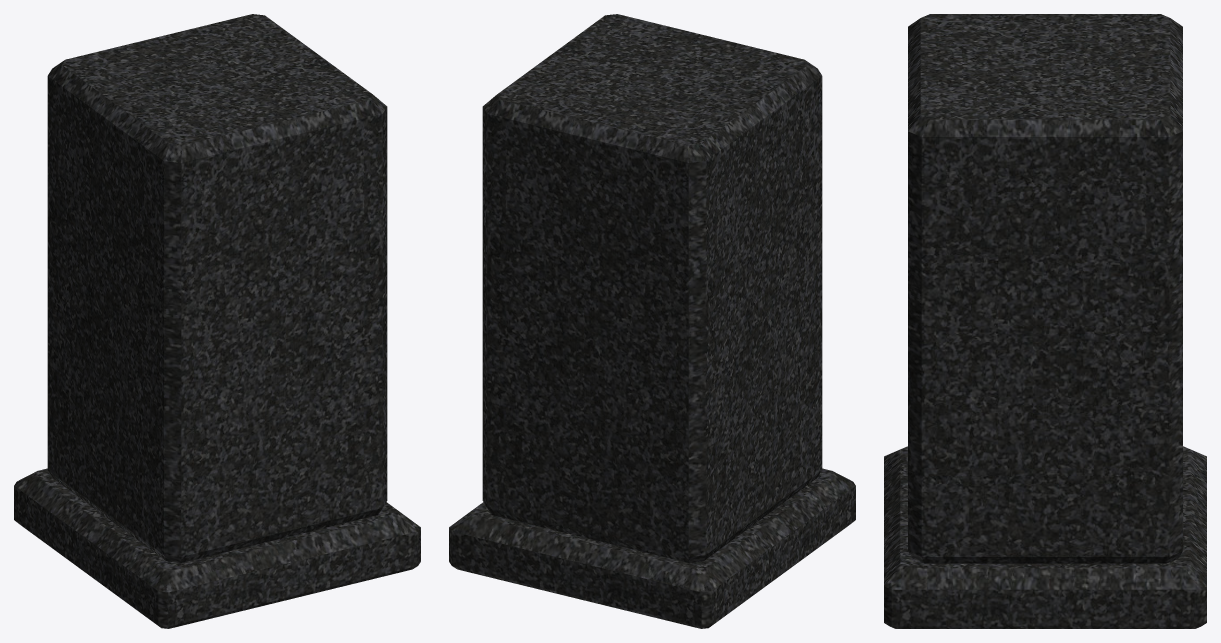
File: post-stone-plinth.glb
The picture shows the model from 3 angles, left to right: view 1: azimuth 30°, elevation 25°; view 2: azimuth 150°, elevation 25°; view 3: azimuth 270°, elevation 25°; orthographic projection. The views are drawn at different scales.
Visible parts, largest first — view 1: post-stone-plinth; view 2: post-stone-plinth; view 3: post-stone-plinth.
Part boxes in pixels (<box>): post-stone-plinth: <box>14,14,420,628</box>; post-stone-plinth: <box>449,14,855,628</box>; post-stone-plinth: <box>884,14,1206,628</box>.
Size of the model in its own units: 0.168 by 0.285 by 0.168.
Materials: 2 (2 with a texture image).
